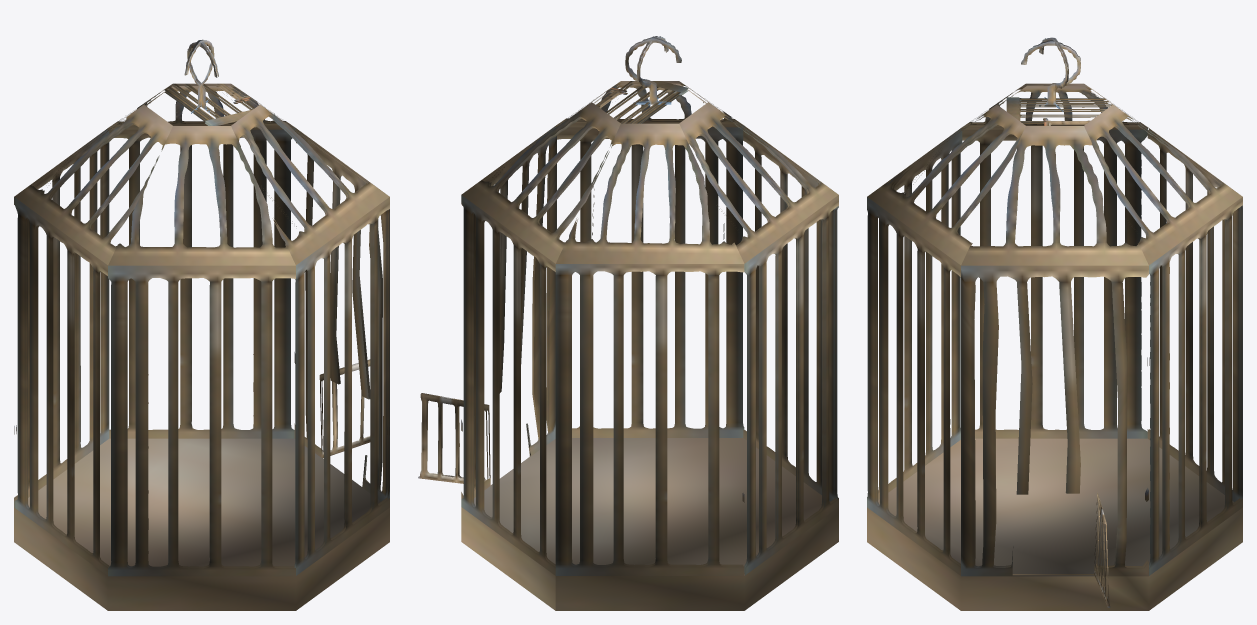
File: Birdcage.fbx
3 views of the same model, side by side, from view 1: azimuth 30°, elevation 25°; view 2: azimuth 150°, elevation 25°; view 3: azimuth 270°, elevation 25° (orthographic).
Parts seen in each view (by area): view 1: BirdCage; view 2: BirdCage; view 3: BirdCage.
Part boxes in pixels (left/top/right/bottom): BirdCage: left=14, top=39, right=389, bottom=610; BirdCage: left=418, top=36, right=838, bottom=610; BirdCage: left=867, top=37, right=1242, bottom=610.
Size of the model in its own units: 155 by 218 by 147.
